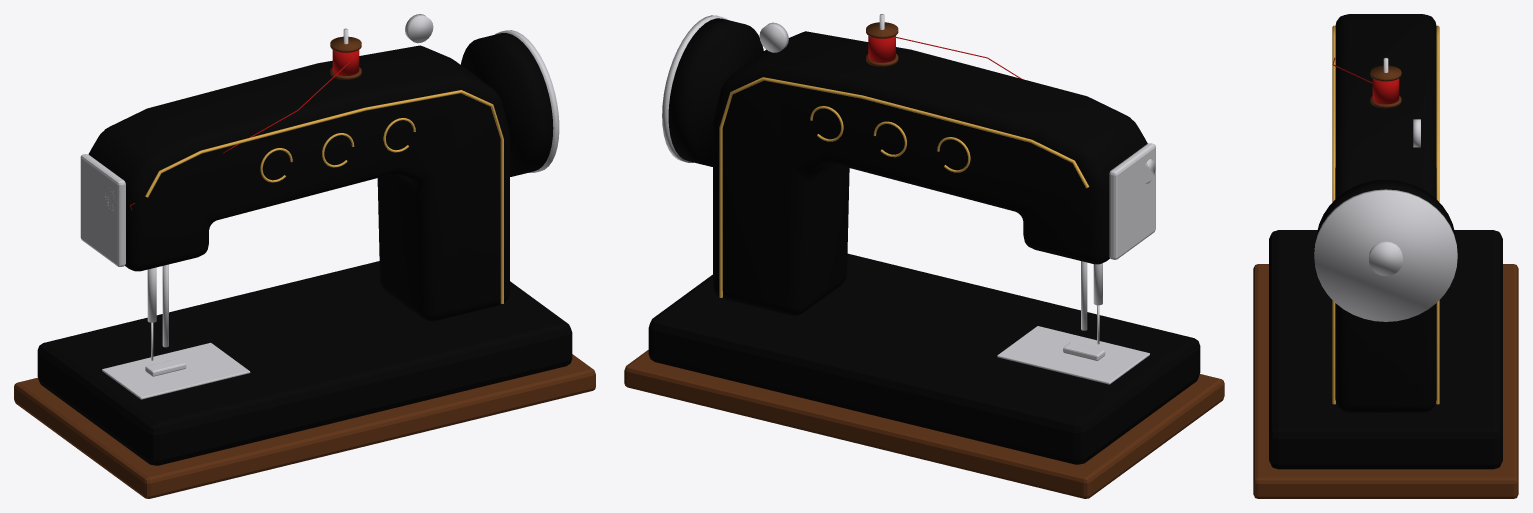
File: sewing-machine.glb
3 views of the same model, side by side, from view 1: azimuth 30°, elevation 25°; view 2: azimuth 150°, elevation 25°; view 3: azimuth 270°, elevation 25° (orthographic). The views are drawn at different scales.
Parts seen in each view (by area): view 1: arm, Würfel.001, Würfel, Zylinder.004, Würfel.003, Würfel.002, curve, Zylinder.005, Zylinder.007, Zylinder.009; view 2: arm, Würfel.001, Würfel, Zylinder.004, Würfel.002, Würfel.003, curve.004, Zylinder.005, Zylinder.007, Zylinder.009; view 3: Würfel.001, arm, Würfel, Zylinder.005, Zylinder.004, curve.004, curve, Zylinder.006, Zylinder.009, Zylinder.011.
Boxes of the visible parts, x1=… form: arm: x1=88, y1=45, x2=509, y2=321; Würfel.001: x1=37, y1=261, x2=572, y2=465; Würfel: x1=14, y1=354, x2=595, y2=498; Zylinder.004: x1=460, y1=33, x2=553, y2=176; Würfel.003: x1=80, y1=154, x2=125, y2=266; Würfel.002: x1=102, y1=342, x2=250, y2=399; curve: x1=145, y1=90, x2=503, y2=303; Zylinder.005: x1=495, y1=30, x2=559, y2=172; Zylinder.007: x1=405, y1=14, x2=433, y2=43; Zylinder.009: x1=332, y1=50, x2=359, y2=75; arm: x1=713, y1=31, x2=1147, y2=315; Würfel.001: x1=648, y1=253, x2=1200, y2=464; Würfel: x1=624, y1=350, x2=1224, y2=498; Zylinder.004: x1=668, y1=18, x2=763, y2=166; Würfel.002: x1=997, y1=326, x2=1149, y2=384; Würfel.003: x1=1109, y1=143, x2=1155, y2=259; curve.004: x1=719, y1=77, x2=1089, y2=297; Zylinder.005: x1=662, y1=15, x2=727, y2=162; Zylinder.007: x1=759, y1=22, x2=788, y2=52; Zylinder.009: x1=868, y1=35, x2=895, y2=62; Würfel.001: x1=1269, y1=230, x2=1502, y2=469; arm: x1=1335, y1=14, x2=1436, y2=412; Würfel: x1=1253, y1=264, x2=1518, y2=498; Zylinder.005: x1=1314, y1=189, x2=1457, y2=321; Zylinder.004: x1=1316, y1=179, x2=1455, y2=239; curve.004: x1=1436, y1=25, x2=1439, y2=404; curve: x1=1332, y1=25, x2=1335, y2=404; Zylinder.006: x1=1369, y1=241, x2=1402, y2=275; Zylinder.009: x1=1372, y1=78, x2=1399, y2=104; Zylinder.011: x1=1370, y1=65, x2=1401, y2=81.
Size of the model in its own units: 0.66 by 0.5 by 0.34.
